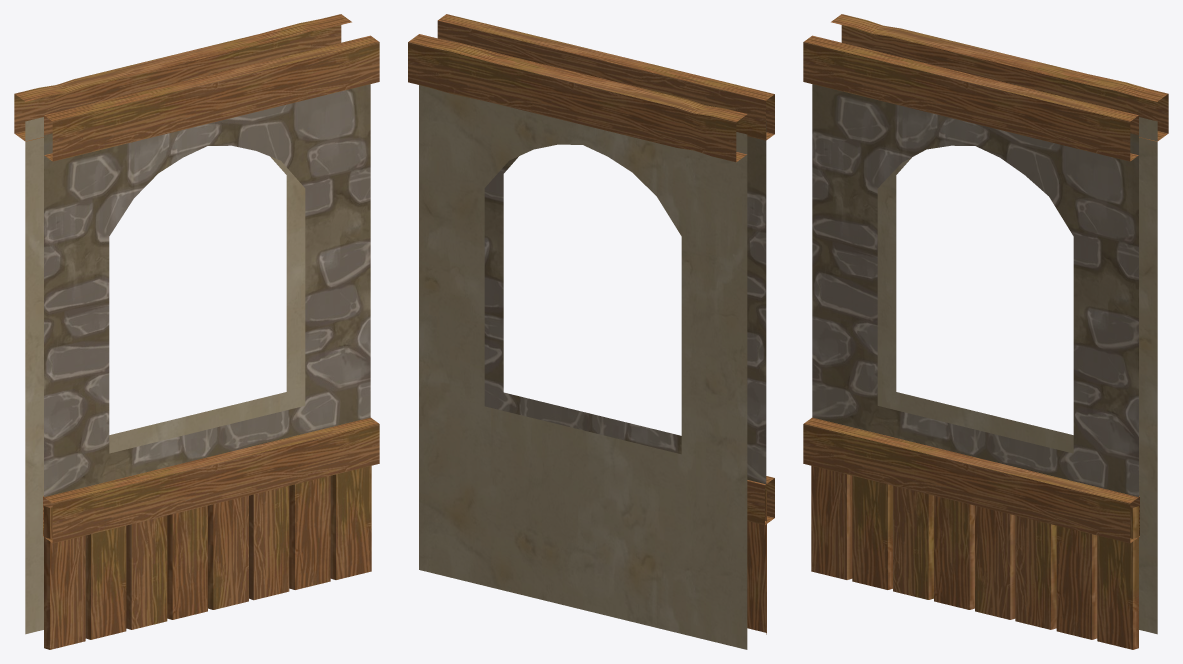
The model's file is Wall_WoodBrick_Window_Wide_Round.gltf.
3 views of the same model, side by side, from view 1: azimuth 30°, elevation 25°; view 2: azimuth 150°, elevation 25°; view 3: azimuth 330°, elevation 25° (orthographic).
Visible parts, largest first — view 1: Wall_WoodBrick_Window_Wide_Round; view 2: Wall_WoodBrick_Window_Wide_Round; view 3: Wall_WoodBrick_Window_Wide_Round.
Boxes of the visible parts, x1,y1,x2,y2 form: Wall_WoodBrick_Window_Wide_Round: (14,14,379,649); Wall_WoodBrick_Window_Wide_Round: (408,14,774,649); Wall_WoodBrick_Window_Wide_Round: (803,14,1168,649).
Bounding box in the file's own units: 2 × 3.12 × 0.4065.
Materials: 4 (4 with a texture image).
